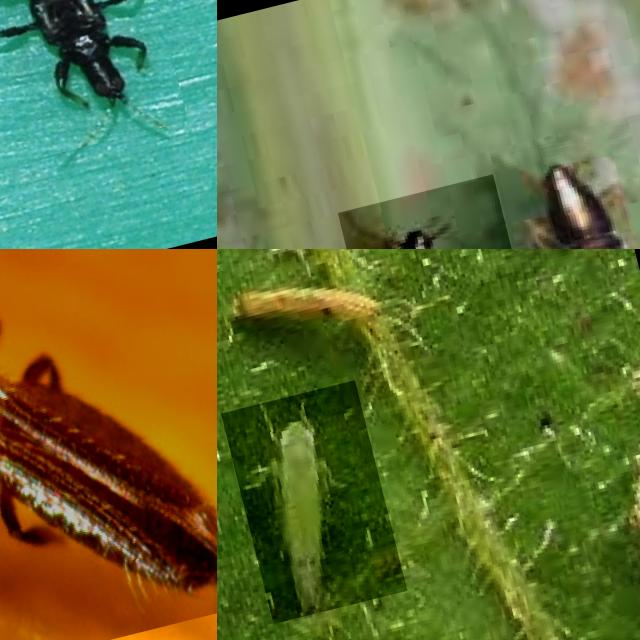AmrascaBiguttula: (221, 380, 407, 624)
GynaikothripsFicorum: (0, 0, 187, 170)
TarophagusProserpina: (494, 119, 640, 249), (337, 173, 543, 249)
ThripsSimplex: (0, 249, 217, 640)
